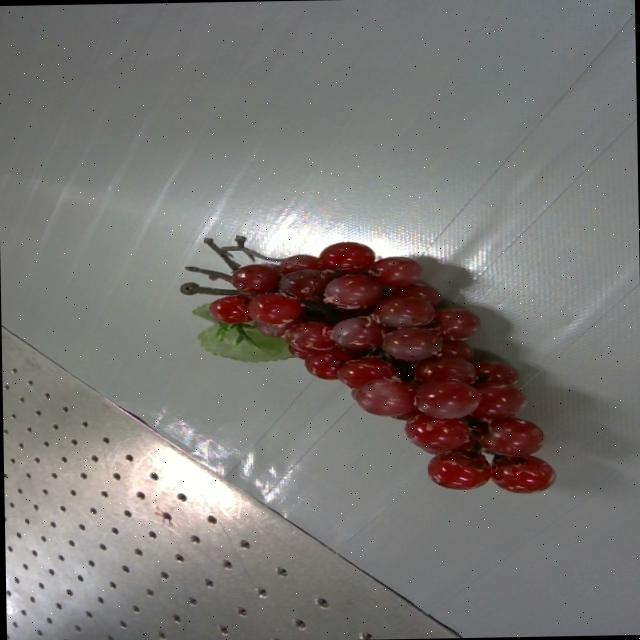grape: (180, 236, 554, 493)
